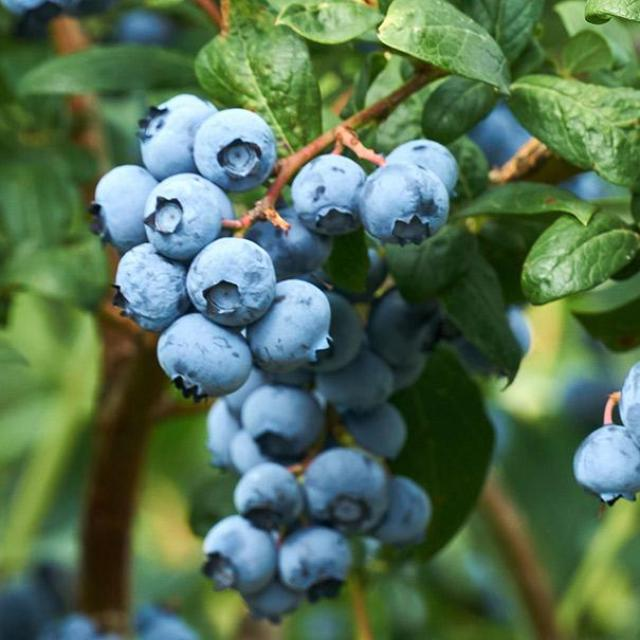BlueBerry - v1: (236, 270, 335, 368), (102, 238, 194, 342), (150, 312, 256, 401), (184, 231, 279, 328), (301, 442, 394, 541), (142, 165, 232, 267), (362, 278, 461, 368), (358, 158, 455, 248), (190, 104, 282, 194), (132, 88, 218, 181), (288, 148, 376, 238), (273, 518, 365, 603), (235, 379, 326, 462), (194, 509, 278, 598), (241, 201, 332, 281), (85, 158, 162, 250), (565, 421, 640, 515), (314, 348, 399, 419), (383, 131, 463, 205), (230, 455, 304, 531), (322, 228, 392, 302), (344, 396, 411, 466), (374, 477, 437, 550), (322, 289, 374, 370), (237, 571, 303, 632), (613, 342, 640, 466)
